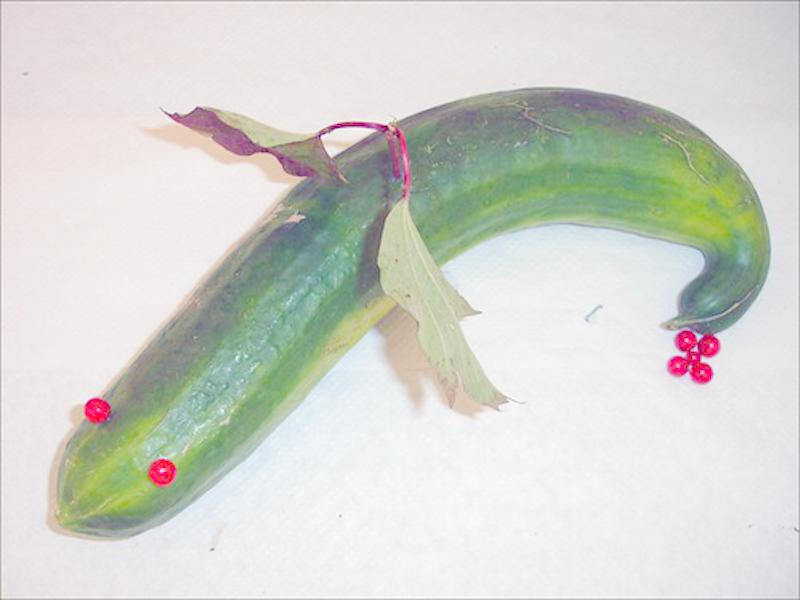Cucumber: (55, 87, 770, 537)
